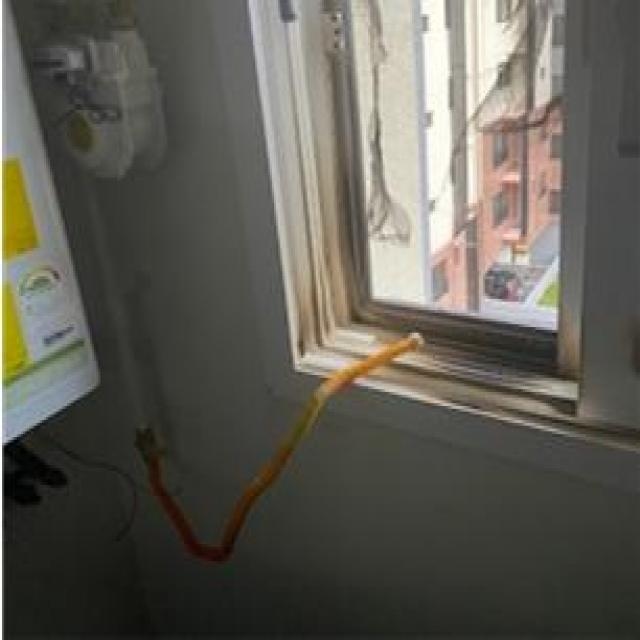Boiler: (0, 1, 130, 500)
